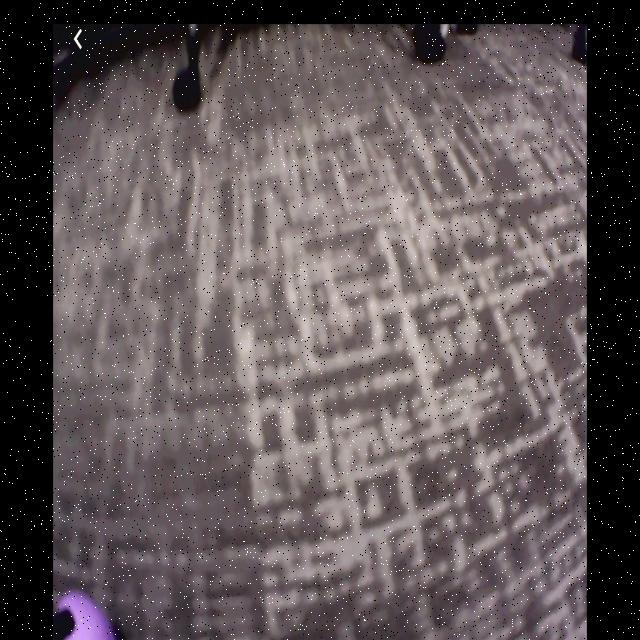ball: (59, 590, 115, 640)
